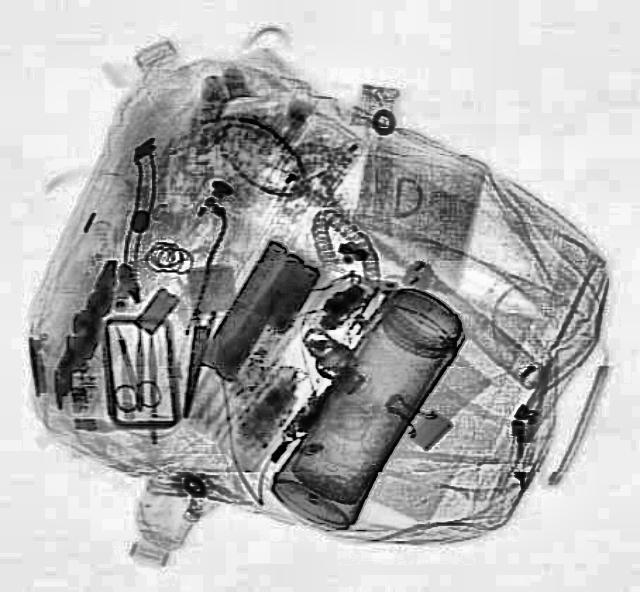Scissors: (89, 322, 163, 412)
